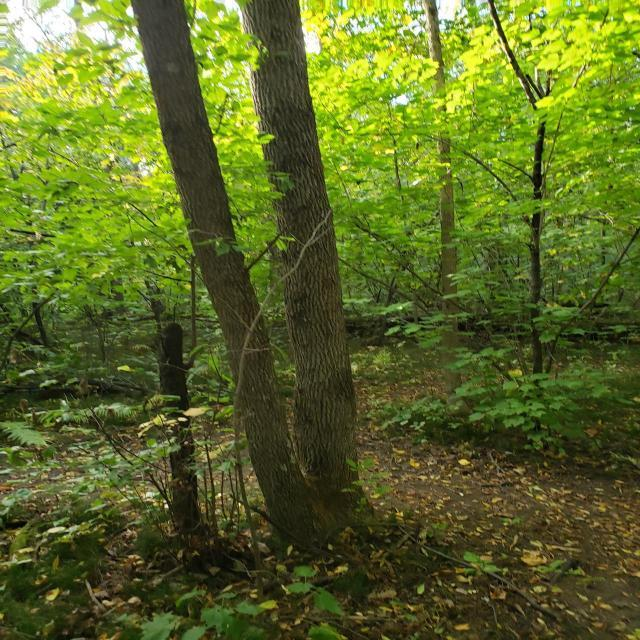fallen_object: (176, 264, 640, 379)
